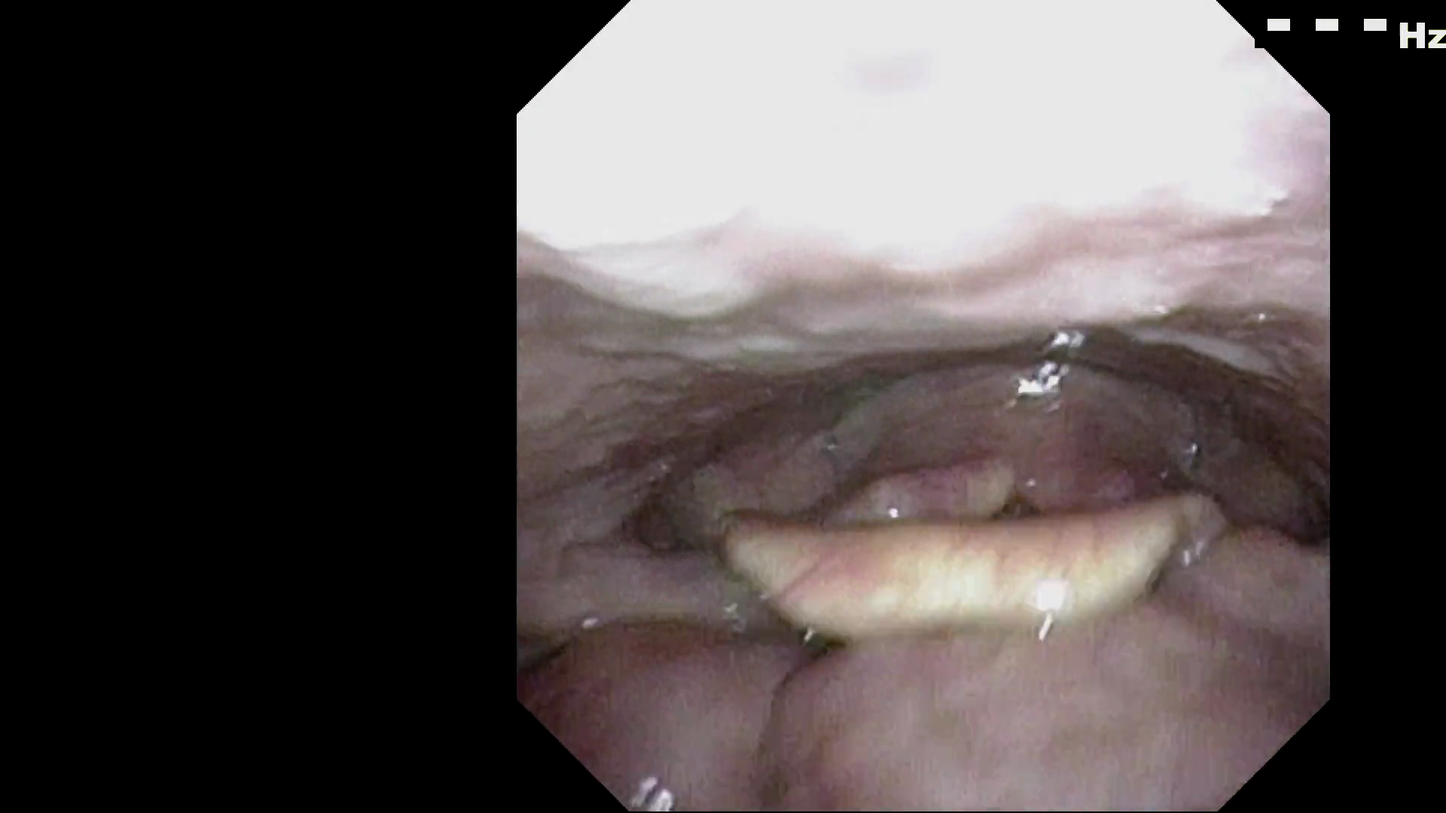epiglottis: (707, 487, 1249, 626)
